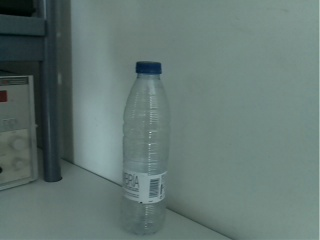botella plastico: (119, 59, 169, 240)
